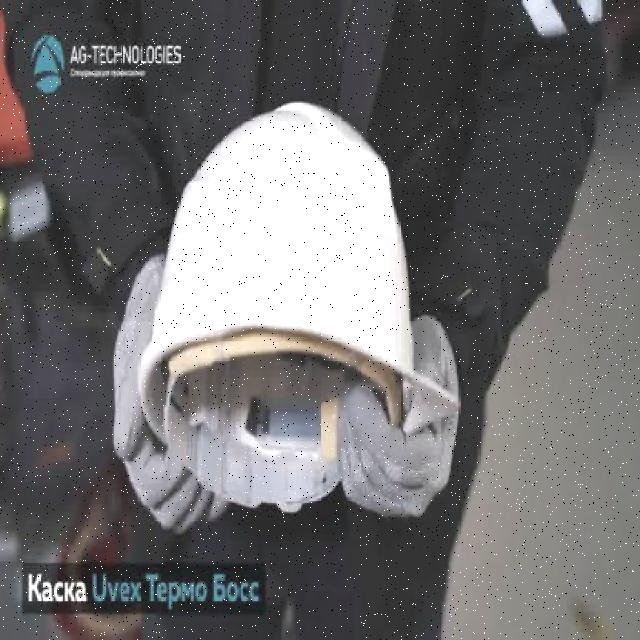Gloves: (111, 248, 232, 534), (334, 312, 460, 523)
Helmet: (135, 98, 460, 522)
